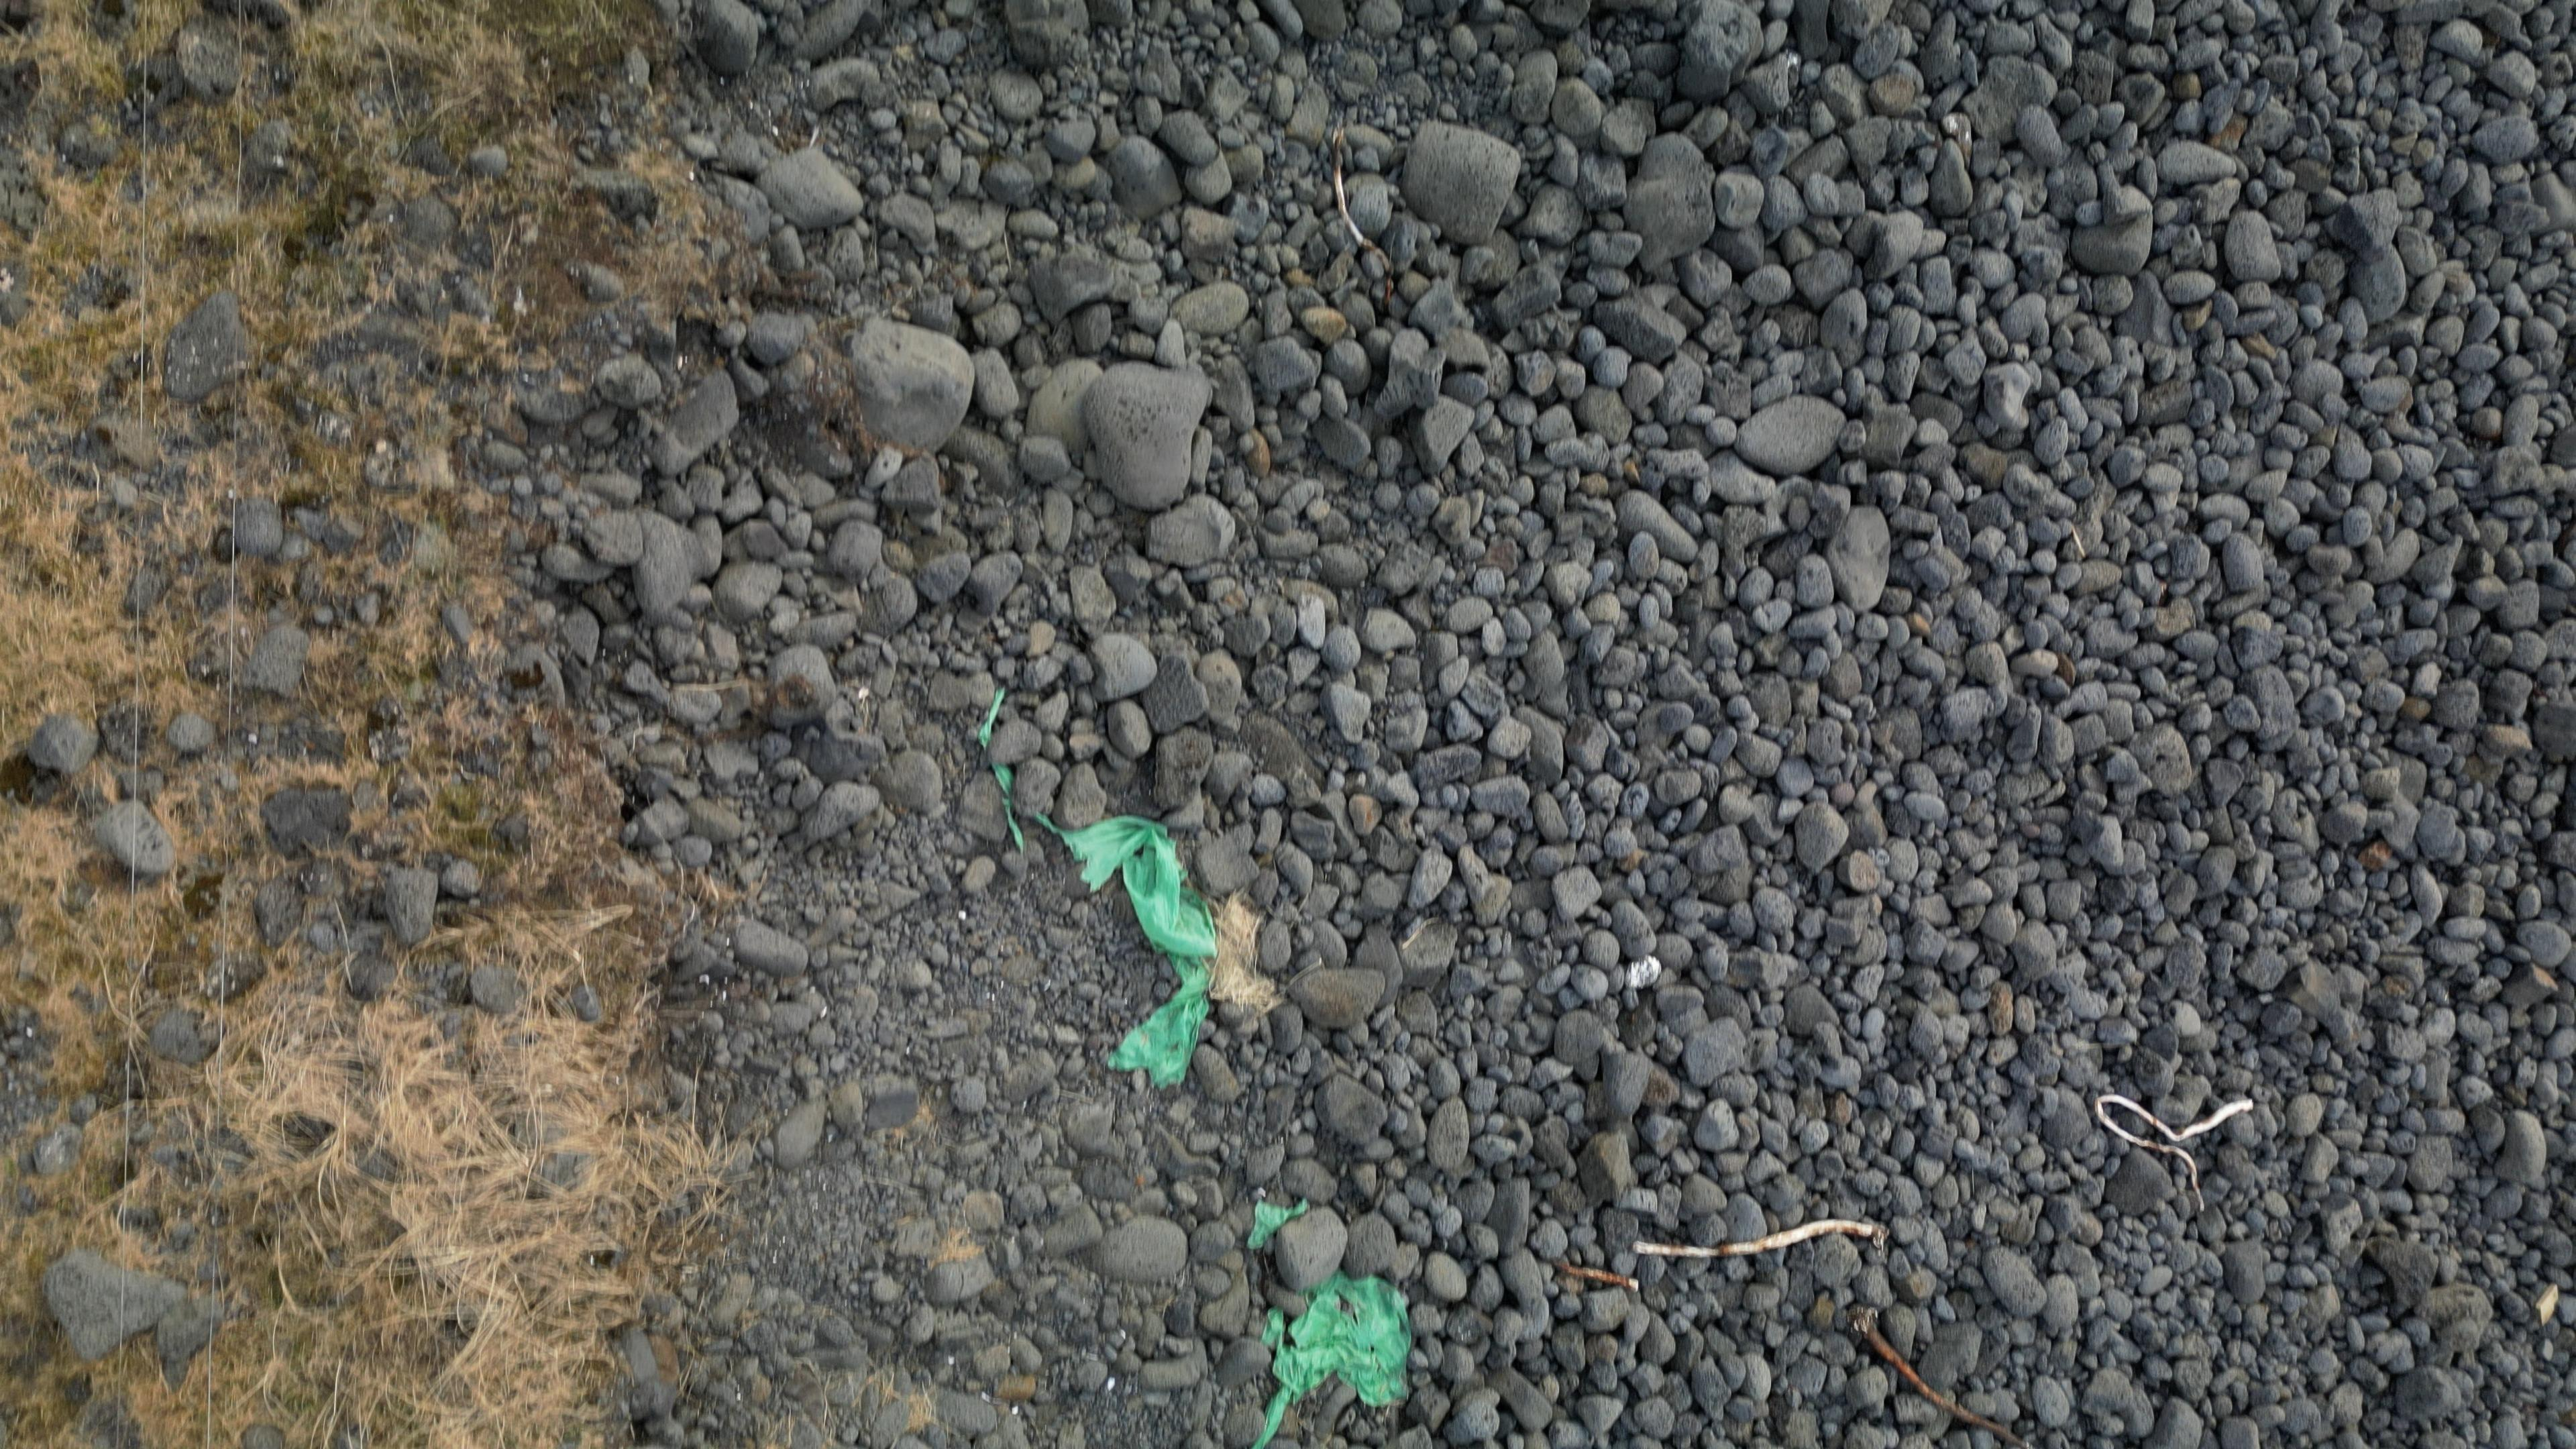trash: (1056, 816, 1217, 1086), (1253, 1272, 1414, 1449)
